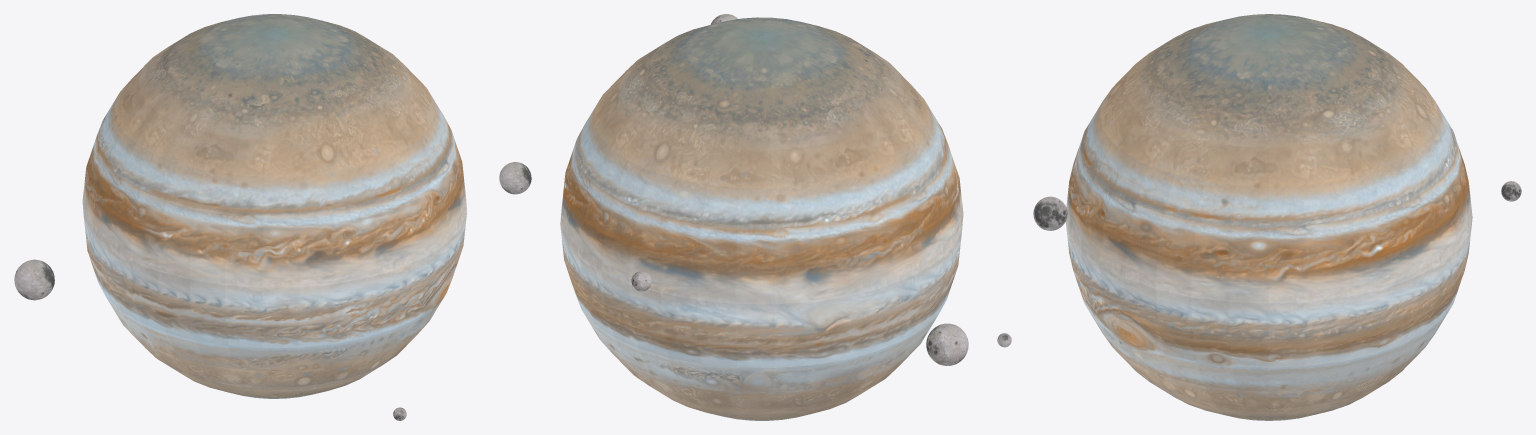
The model's file is jupiterl.glb.
The picture shows the model from 3 angles, left to right: view 1: azimuth 30°, elevation 25°; view 2: azimuth 150°, elevation 25°; view 3: azimuth 270°, elevation 25°; orthographic projection. The views are drawn at different scales.
Visible parts, largest first — view 1: Esfera.004; view 2: Esfera.004; view 3: Esfera.004.
Part boxes in pixels (x1,y1,x2,y2): Esfera.004: [14, 14, 531, 420]; Esfera.004: [560, 14, 968, 420]; Esfera.004: [997, 14, 1521, 420].
Size of the model in its own units: 2.36 by 2 by 2.57.
5 materials, 5 textured.
